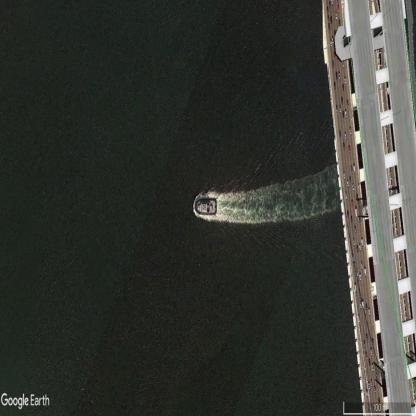ship: (195, 197, 217, 215)
